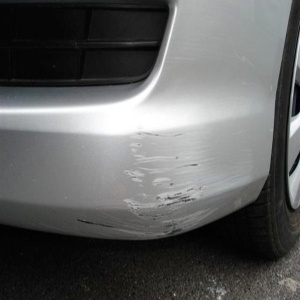bumper_scratch: (84, 111, 245, 239)
